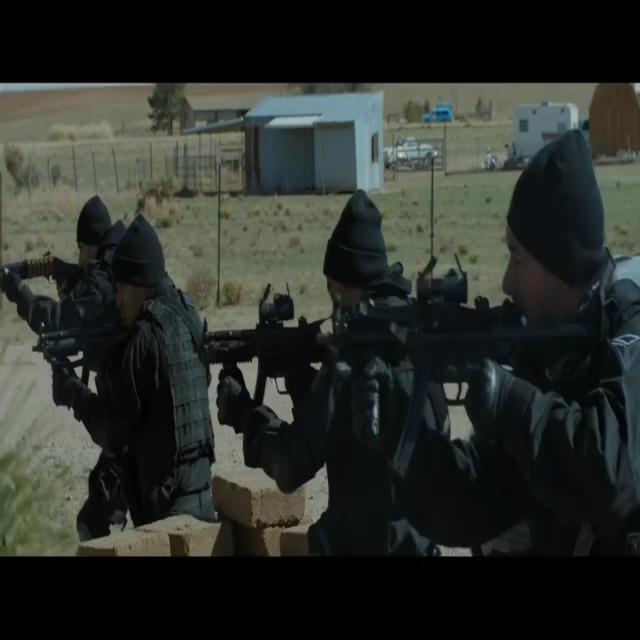Weapon: (378, 271, 589, 467), (186, 291, 358, 437), (0, 220, 134, 407)
